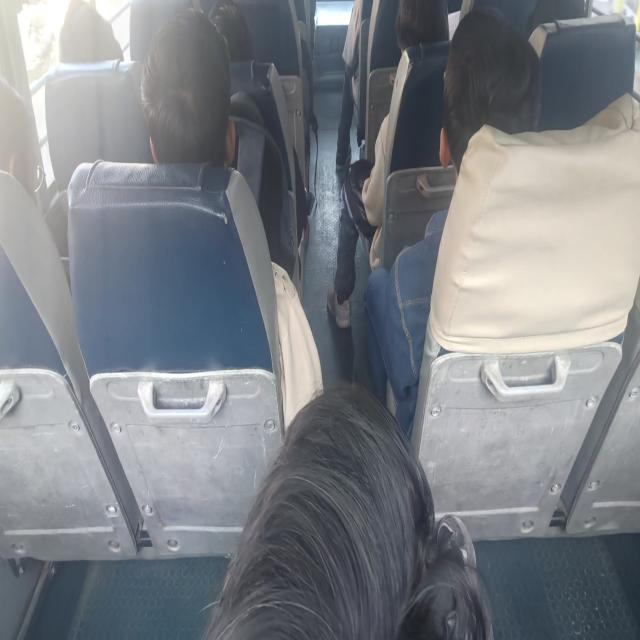person: (138, 7, 324, 432), (363, 6, 541, 436), (202, 381, 494, 638), (326, 0, 450, 329), (139, 8, 236, 167), (336, 0, 362, 172), (58, 0, 124, 64)
